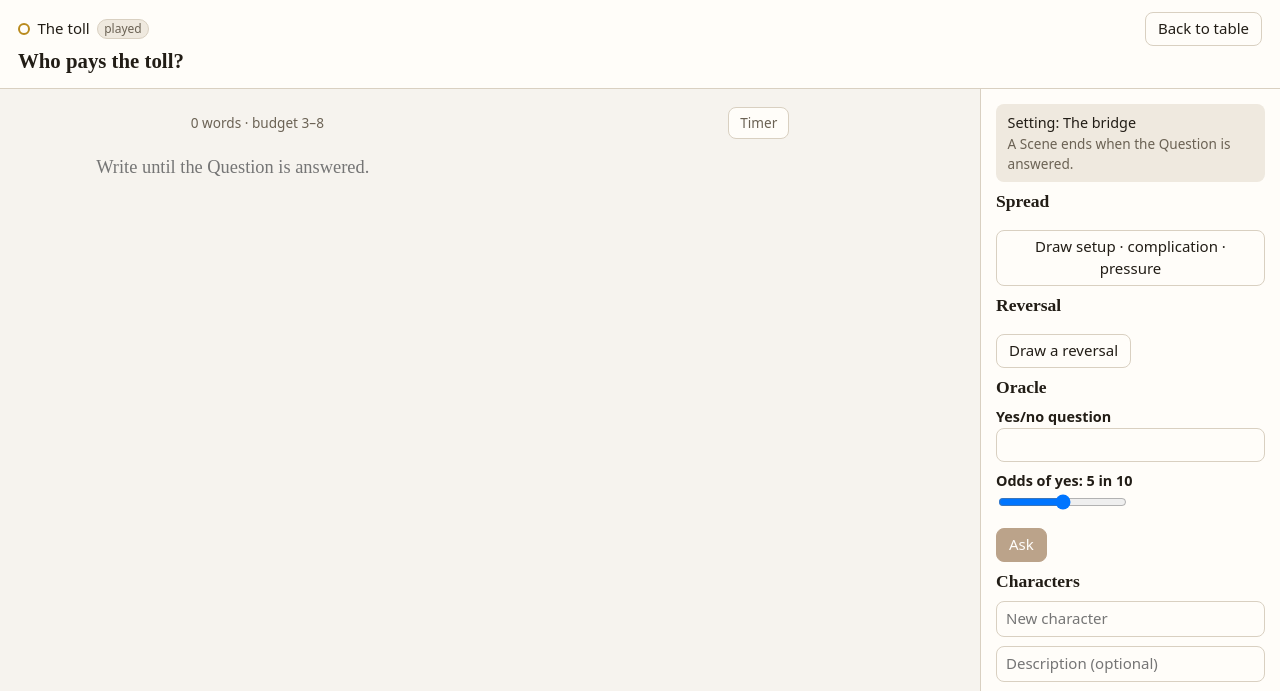
Test: Scene editor: drafting › runs a drafting timer
The width and height of the screenshot is (1280, 691).
Click the button "Timer".
click(759, 123)  # box [728,107,789,139]
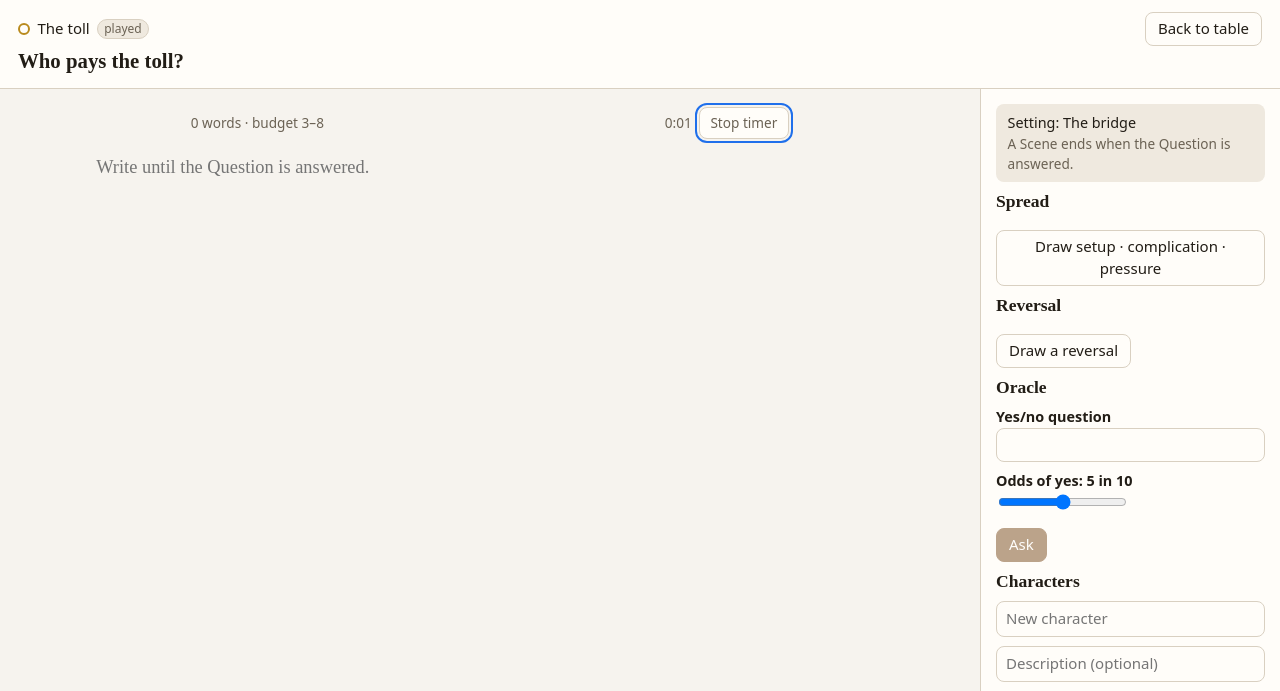
Now the text "0:01" is shown, box [665,113,692,133]
Click the button "Stop timer".
click(744, 123)  # box [698,107,789,139]
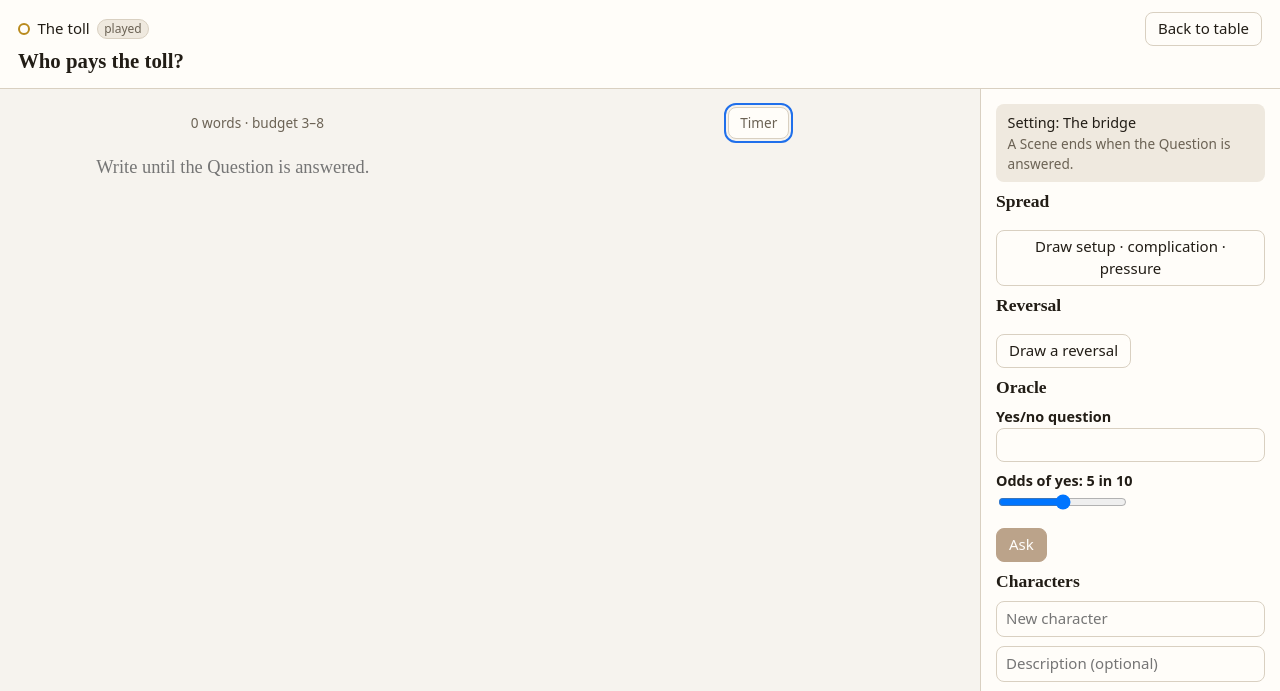
Now the text "0:01" is gone
